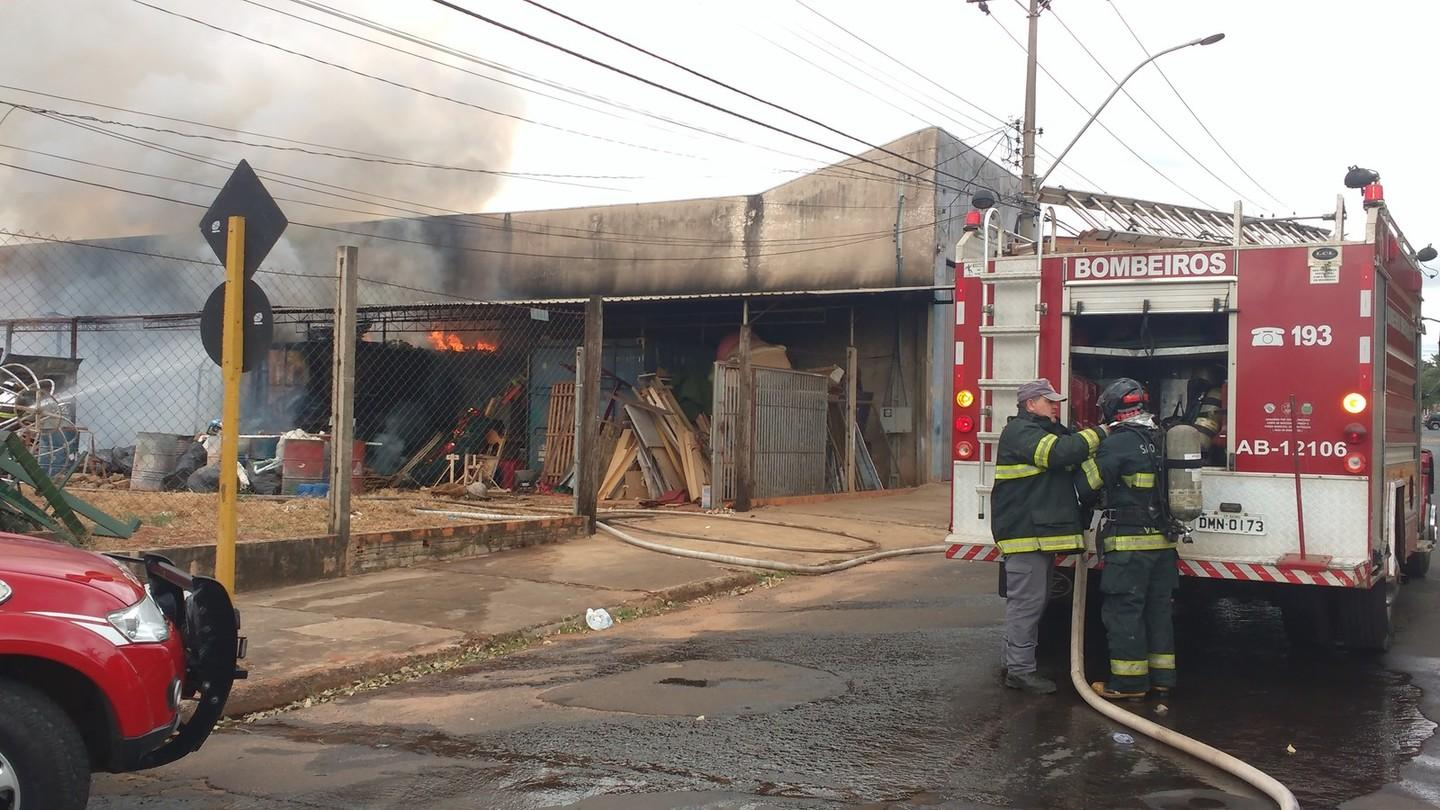fire: (427, 322, 494, 358)
